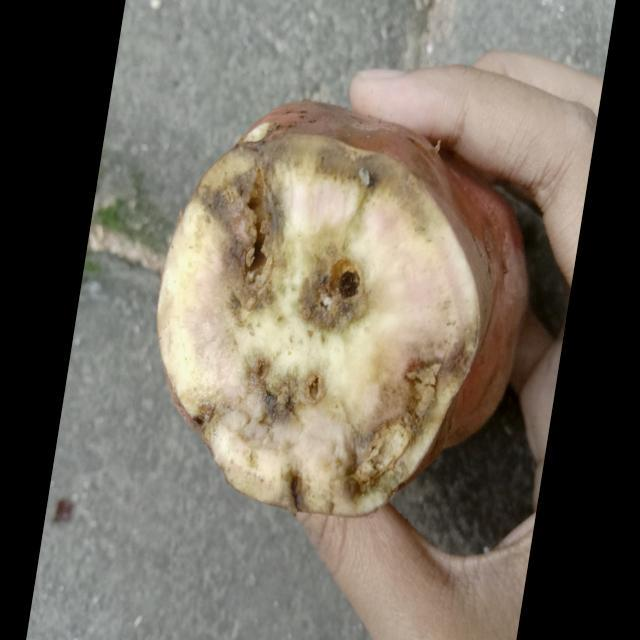Sick Sweet Potato_Tuber Rot: (156, 135, 479, 515)
